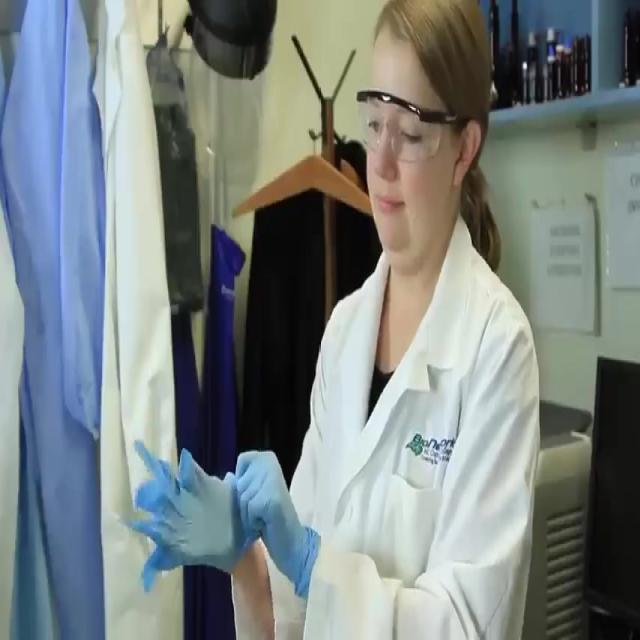googles: (355, 85, 442, 163)
labcoat: (230, 206, 538, 640), (92, 1, 184, 640), (0, 203, 29, 640)
